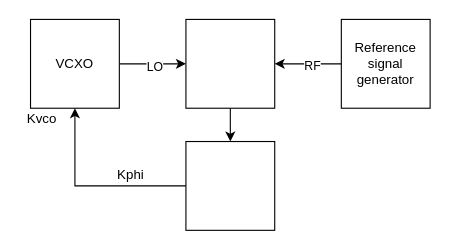
Image size: 450x250. Some labels were removed from this diagram. Each missing label, with the box of its shape:
ADE-1 Phase detector: (185, 18, 275, 108)
Feedback loop: (185, 140, 275, 230)
